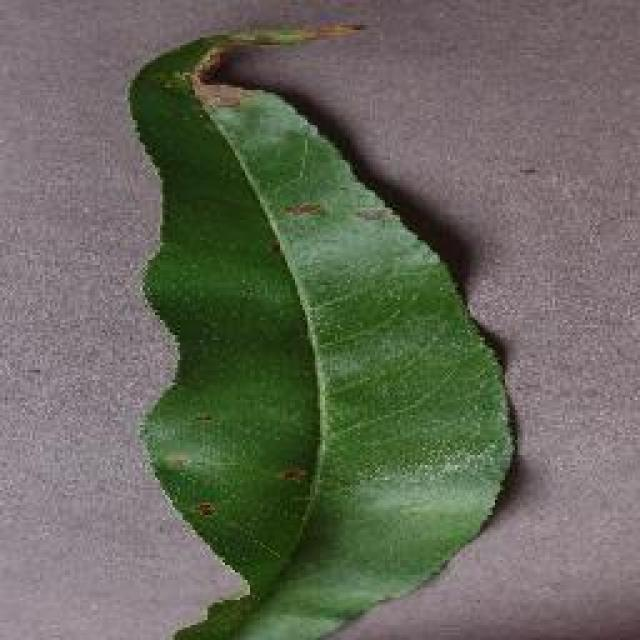Peach_Bacterial_Spot: (153, 45, 427, 275)
